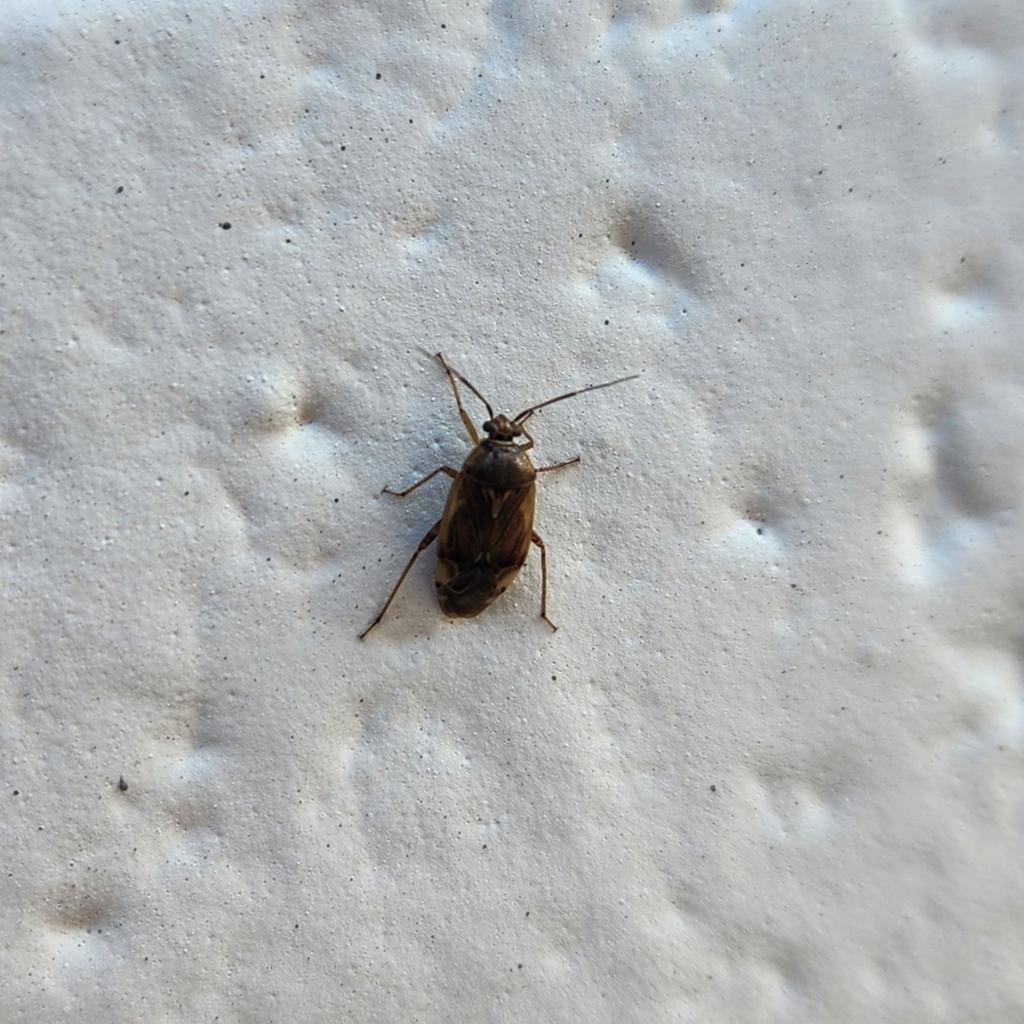plant_bugs: (285, 269, 703, 735)
